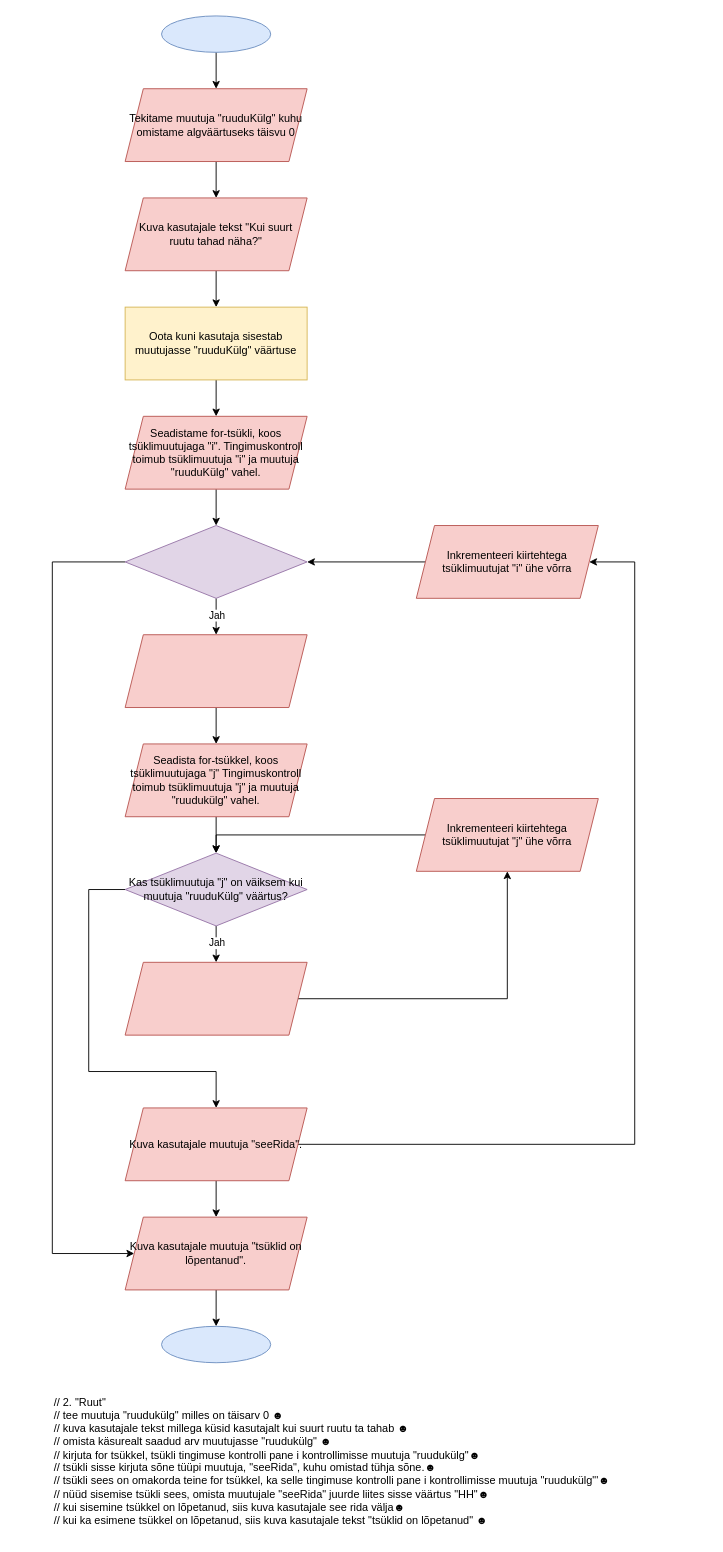
Image size: 723x1552. Some labels were removed from this diagram. The shapes that lost their labels are listed below. From the top down, each one's centre as x and y in pixels, then its label:
(216,33): Algus
(215,561): Kas tsüklimuutuja "i" on väiksem kui muutuja "ruuduKülg" väärtus?
(215,671): Tekita muutuja "seeRida" millele omistame algväärtuseks "".
(215,998): Lisa muutujale "seeRida" olemasolevale väärtusele juurde sõne "HH"
(216,1344): Lõpp
